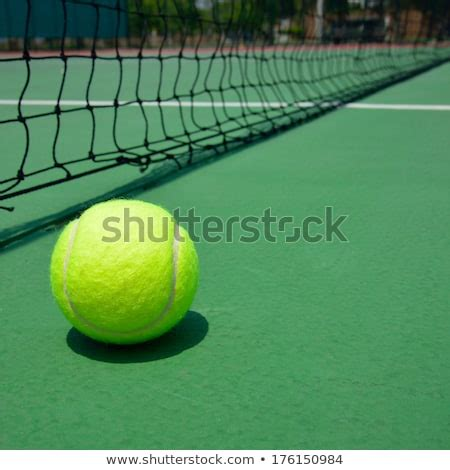tennis_ball: (49, 196, 200, 346)
